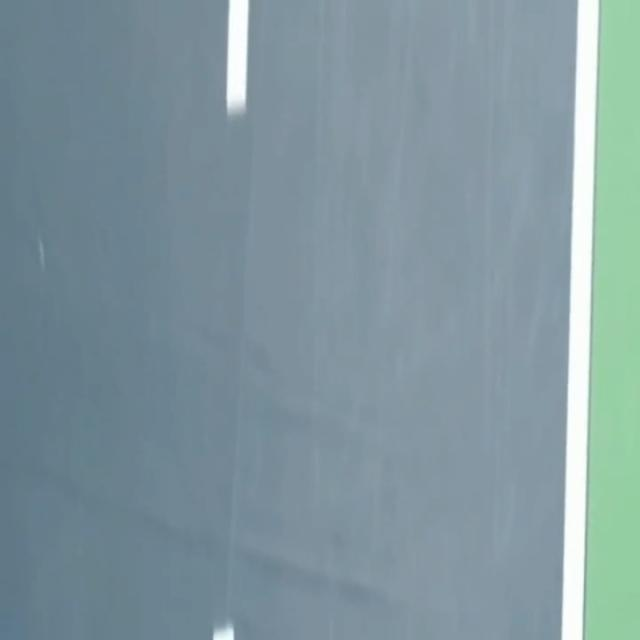center: (226, 0, 249, 117), (212, 623, 234, 639)
right: (561, 0, 599, 639)
